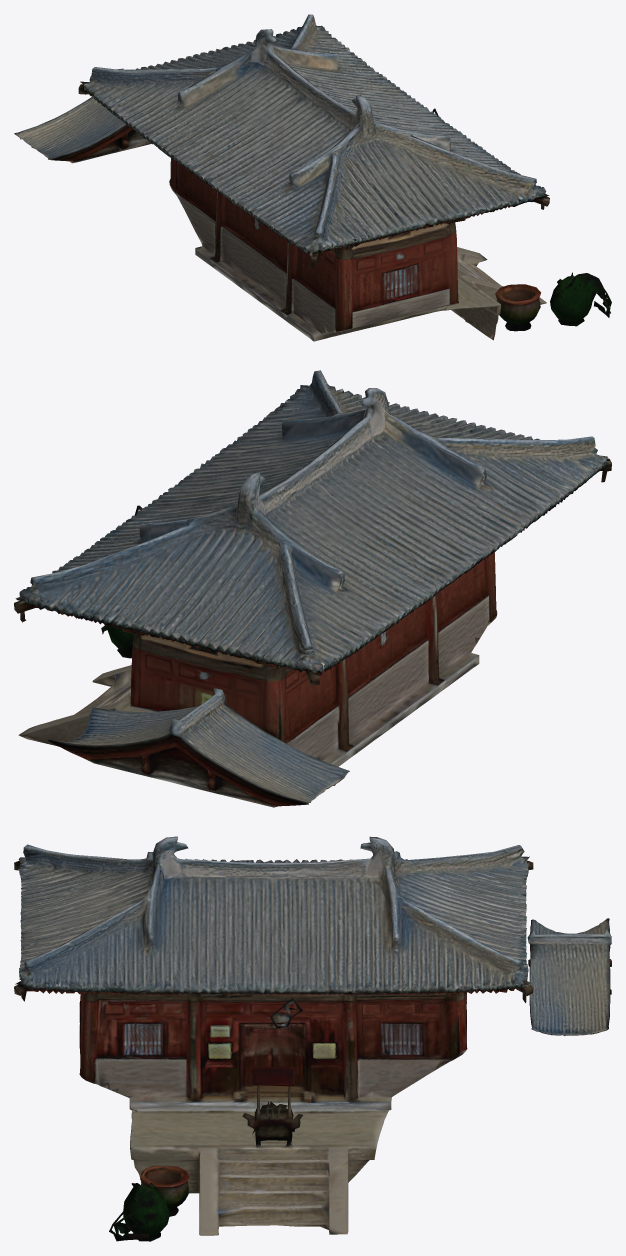
The model's file is building-nanchansi.glb.
3 views of the same model, one above another, from view 1: azimuth 30°, elevation 25°; view 2: azimuth 150°, elevation 25°; view 3: azimuth 270°, elevation 25° (orthographic). The views are drawn at different scales.
Parts seen in each view (by area): view 1: node_530a396f-aeba-4da5-be66-6d76375c743e; view 2: node_530a396f-aeba-4da5-be66-6d76375c743e; view 3: node_530a396f-aeba-4da5-be66-6d76375c743e.
Part boxes in pixels (x1=…): node_530a396f-aeba-4da5-be66-6d76375c743e: x1=14, y1=14, x2=611, y2=341; node_530a396f-aeba-4da5-be66-6d76375c743e: x1=14, y1=370, x2=611, y2=807; node_530a396f-aeba-4da5-be66-6d76375c743e: x1=14, y1=836, x2=611, y2=1241.
Bounding box in the file's own units: 0.7942 × 0.538 × 1.
1 material, 1 textured.
